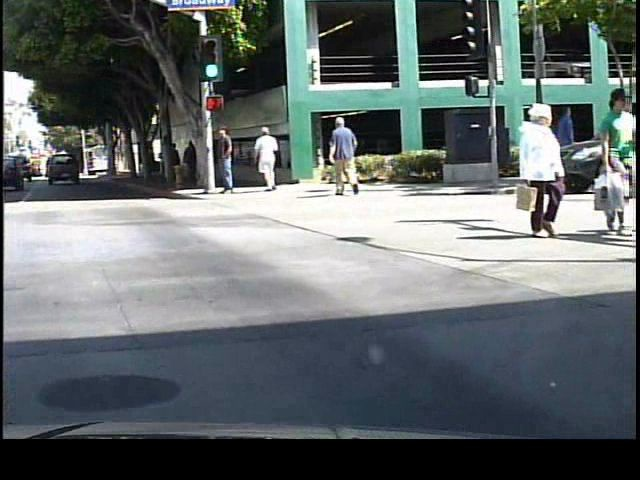person: (510, 101, 571, 244), (591, 86, 634, 240), (329, 114, 363, 196), (218, 124, 247, 206), (549, 103, 576, 182), (256, 123, 284, 195), (182, 136, 203, 188), (169, 141, 185, 187)
